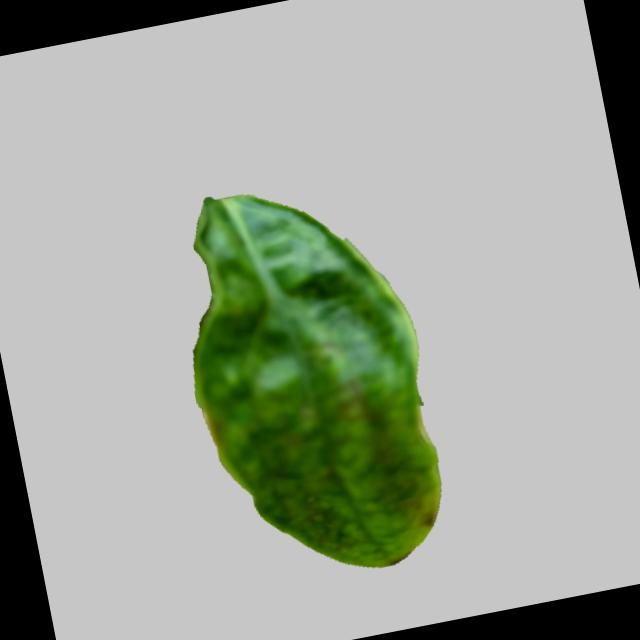yellow-mottle-virus: (154, 162, 477, 597)
